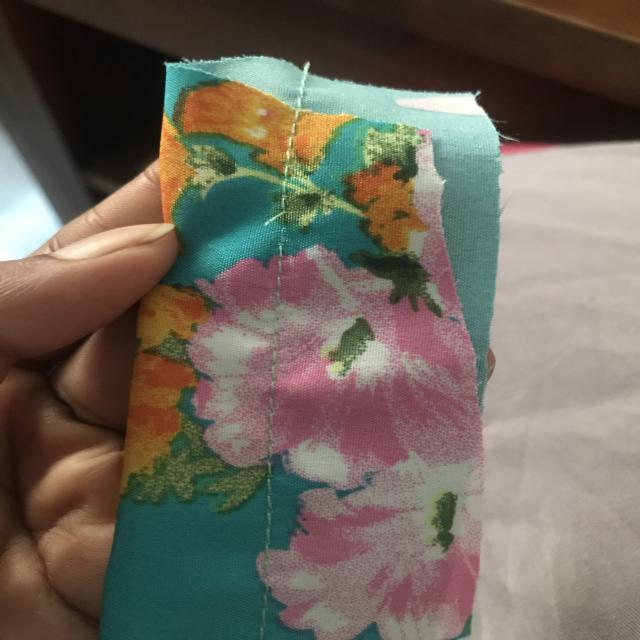broken: (257, 196, 306, 249)
